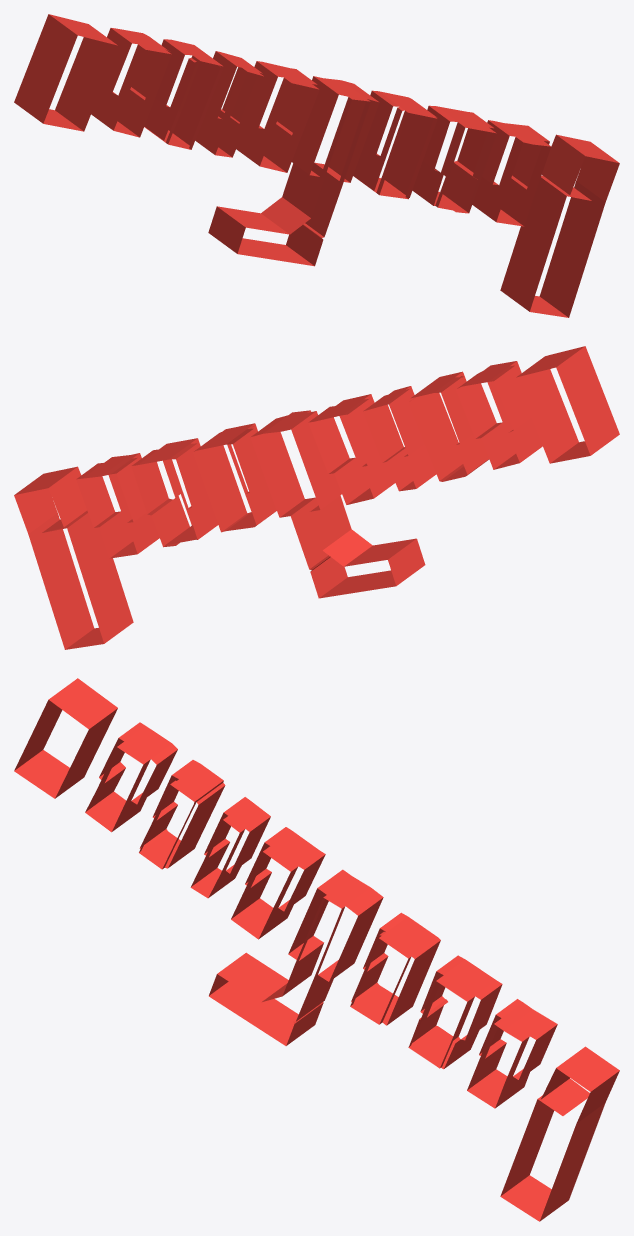
The model's file is Wall_Hini_6.0_Slope_2.0.obj.
3 views of the same model, one above another, from view 1: azimuth 30°, elevation 25°; view 2: azimuth 150°, elevation 25°; view 3: azimuth 330°, elevation 25° (orthographic).
Visible parts, largest first — view 1: 5, 1, 10, 3, 4, 7, 2, 9, 8, 6; view 2: 5, 1, 10, 4, 3, 9, 7, 2, 8, 6; view 3: 5, 1, 10, 4, 3, 2, 7, 9, 8, 6.
Boxes of the visible parts, box(x1,y1,x2,y2) form: 5: box(208, 76, 379, 266); 1: box(500, 134, 619, 317); 10: box(14, 14, 117, 131); 3: box(353, 90, 437, 199); 4: box(412, 105, 496, 213); 7: box(236, 61, 319, 172); 2: box(472, 120, 551, 226); 9: box(91, 28, 171, 137); 8: box(144, 39, 223, 149); 6: box(195, 51, 264, 157); 5: box(250, 410, 425, 598); 1: box(14, 466, 133, 649); 10: box(516, 346, 619, 463); 4: box(131, 438, 218, 547); 3: box(193, 423, 276, 532); 9: box(456, 361, 542, 469); 7: box(308, 394, 395, 504); 2: box(76, 453, 159, 558); 8: box(408, 371, 489, 481); 6: box(363, 386, 436, 491); 5: box(209, 869, 383, 1045); 1: box(500, 1046, 619, 1221); 10: box(14, 678, 117, 798); 4: box(408, 955, 502, 1069); 3: box(350, 912, 440, 1025); 2: box(467, 999, 557, 1108); 7: box(231, 827, 325, 939); 9: box(85, 722, 177, 832); 8: box(139, 760, 225, 869); 6: box(190, 797, 270, 898).
Size of the model in its own units: 136 by 90.5 by 12.
